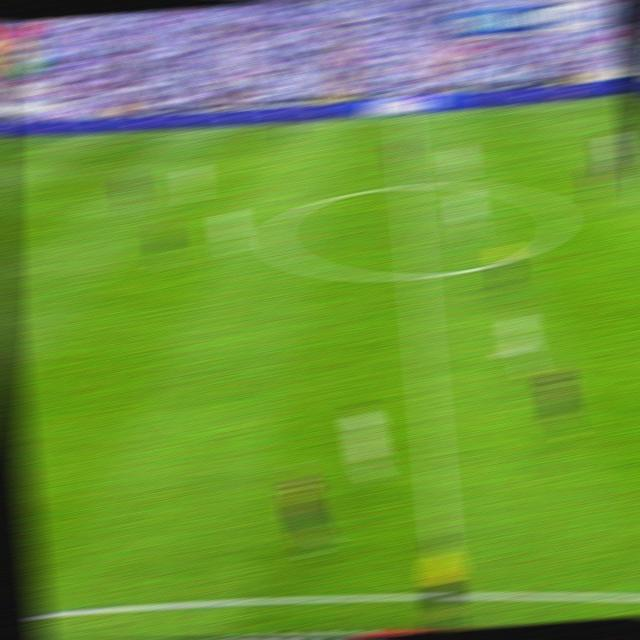halfcircle_bottom: (403, 259, 430, 289)
halfcircle_top: (396, 174, 421, 197)
midline_top_intersection: (393, 113, 413, 126)
